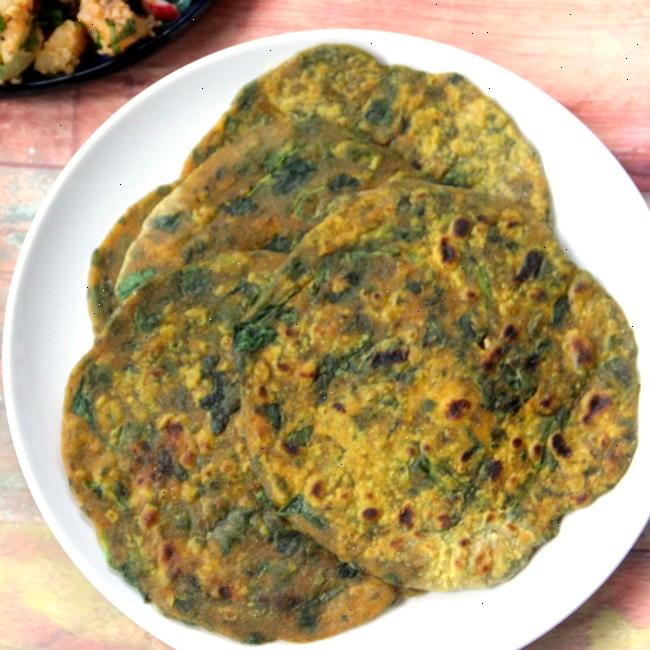thepla: (136, 82, 589, 601)
